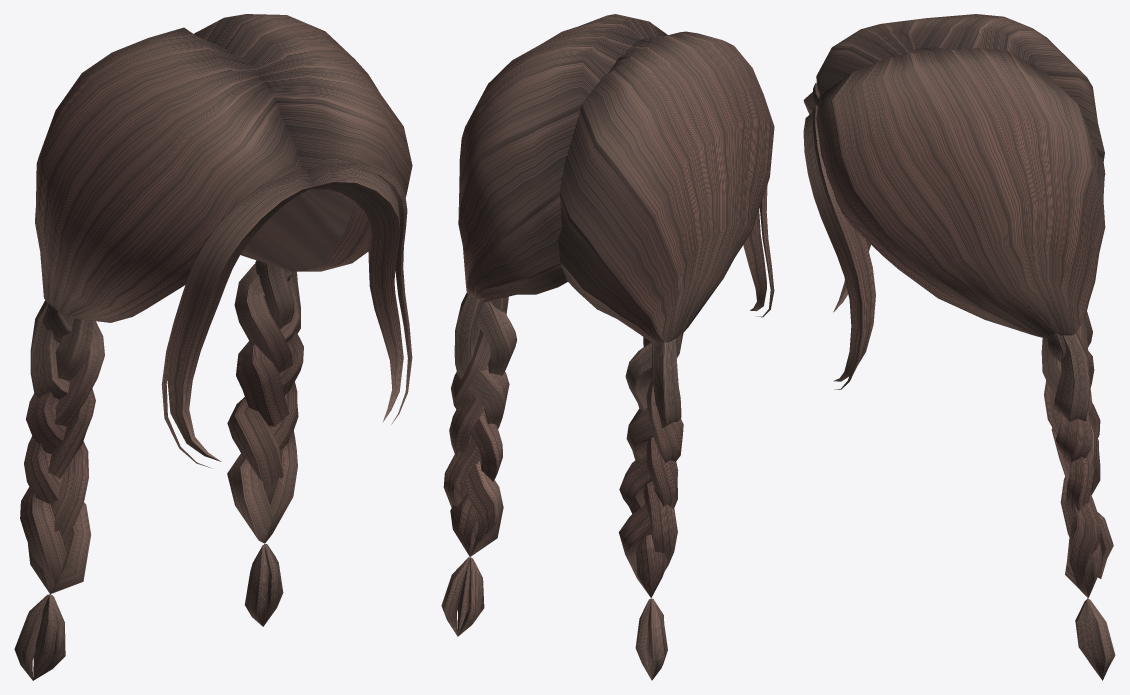
The picture shows the model from 3 angles, left to right: view 1: azimuth 30°, elevation 25°; view 2: azimuth 150°, elevation 25°; view 3: azimuth 270°, elevation 25°; orthographic projection. The views are drawn at different scales.
Visible parts, largest first — view 1: geometry_0; view 2: geometry_0; view 3: geometry_0.
Boxes of the visible parts, x1=… form: geometry_0: x1=14, y1=14, x2=412, y2=680; geometry_0: x1=441, y1=14, x2=774, y2=680; geometry_0: x1=803, y1=14, x2=1115, y2=680.
Bounding box in the file's own units: 1.45 × 3.02 × 1.44.
1 material, 1 textured.
